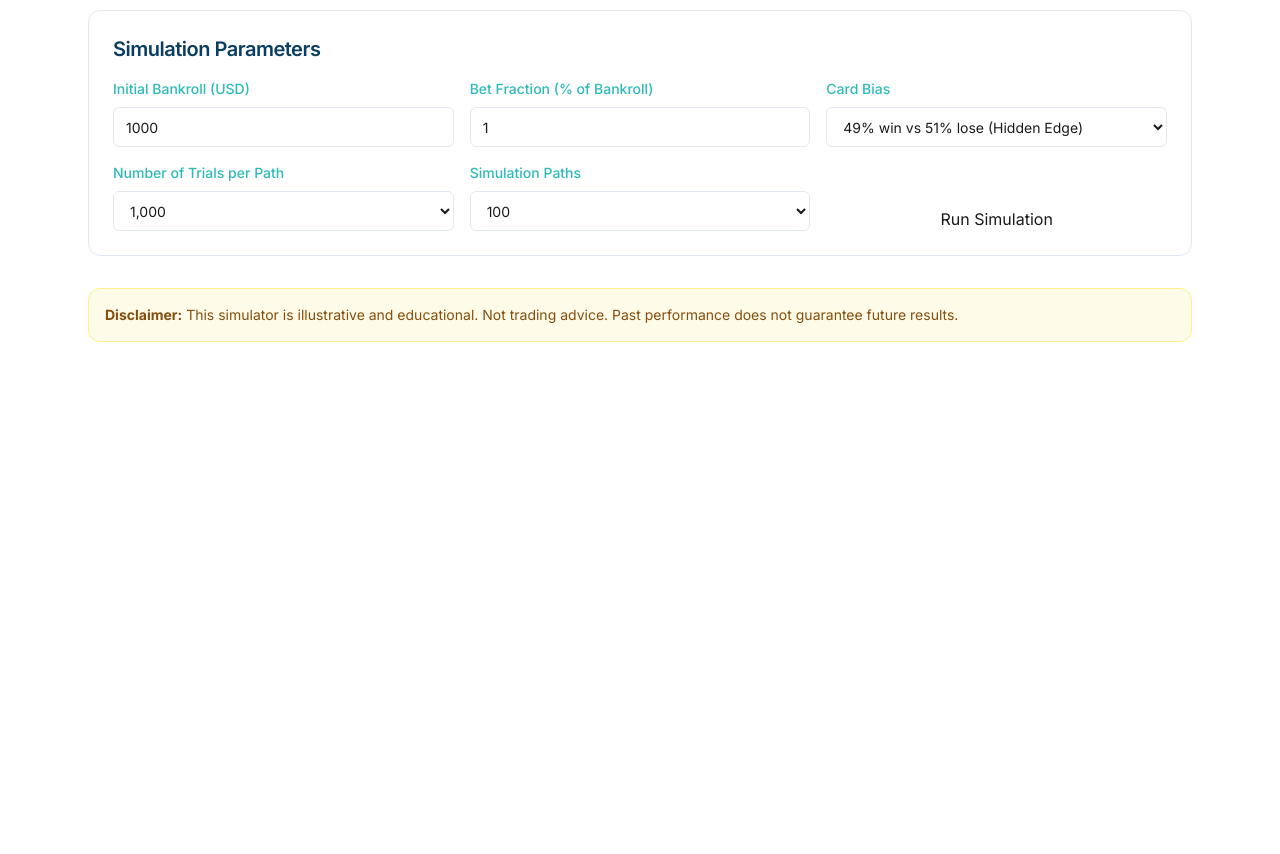
Test case: CorruptCasinoSimulator › shows interpretation panel after simulation
The width and height of the screenshot is (1280, 854).
Click the button "Run Simulation" at (997, 219), box [826, 207, 1167, 231]
(page scrolled)
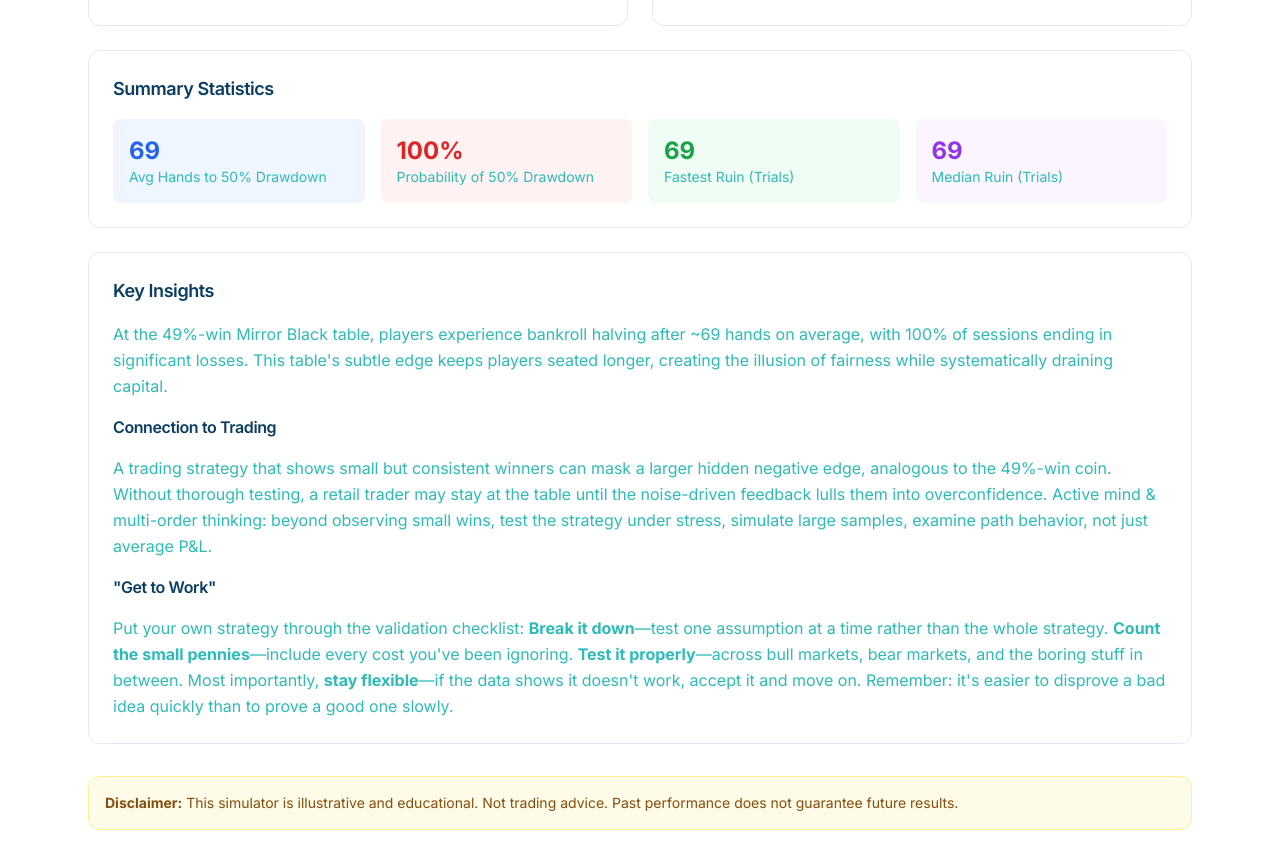
Result: the heading "Key Insights" is shown at [113, 280, 214, 301]
Result: the heading "Connection to Trading" is shown at [113, 417, 276, 437]
